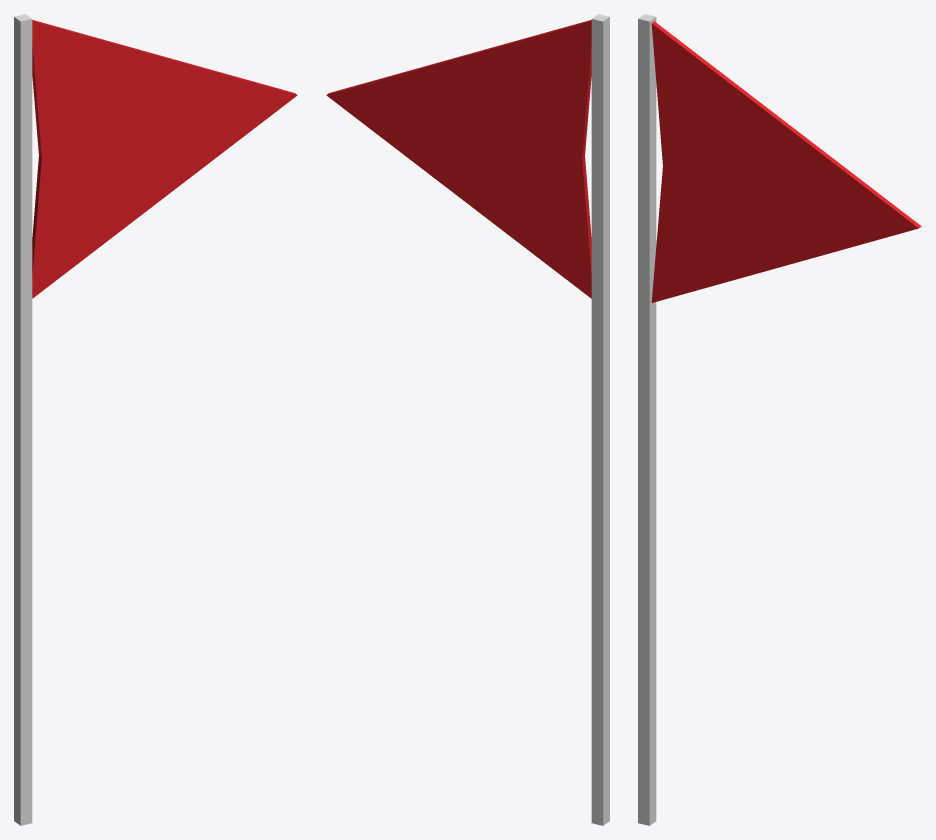
Rendered from Flag (3).fbx.
3 views of the same model, side by side, from view 1: azimuth 30°, elevation 25°; view 2: azimuth 150°, elevation 25°; view 3: azimuth 330°, elevation 25° (orthographic).
Visible parts, largest first — view 1: Flag; view 2: Flag; view 3: Flag.
Boxes of the visible parts, left/top/right/bottom form: Flag: left=14, top=14, right=297, bottom=825; Flag: left=326, top=14, right=609, bottom=825; Flag: left=638, top=14, right=921, bottom=825.
Size of the model in its own units: 181 by 499 by 7.45.
